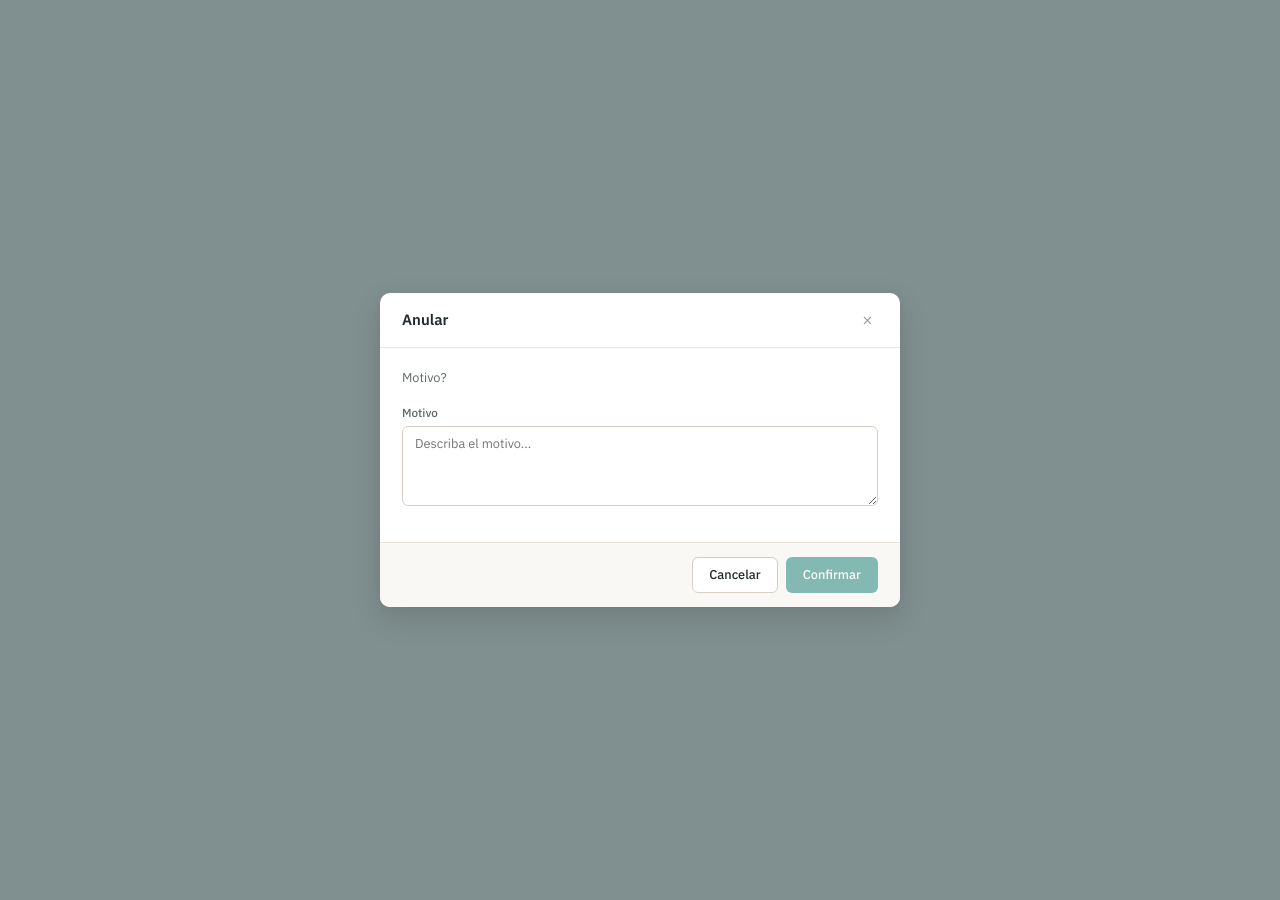
it: ConfirmDialog › el boton se habilita al escribir motivo
Type "Motivo de prueba" into the text box with placeholder "Describa el motivo..." at {"x": 640, "y": 466}, box [402,426,878,506]
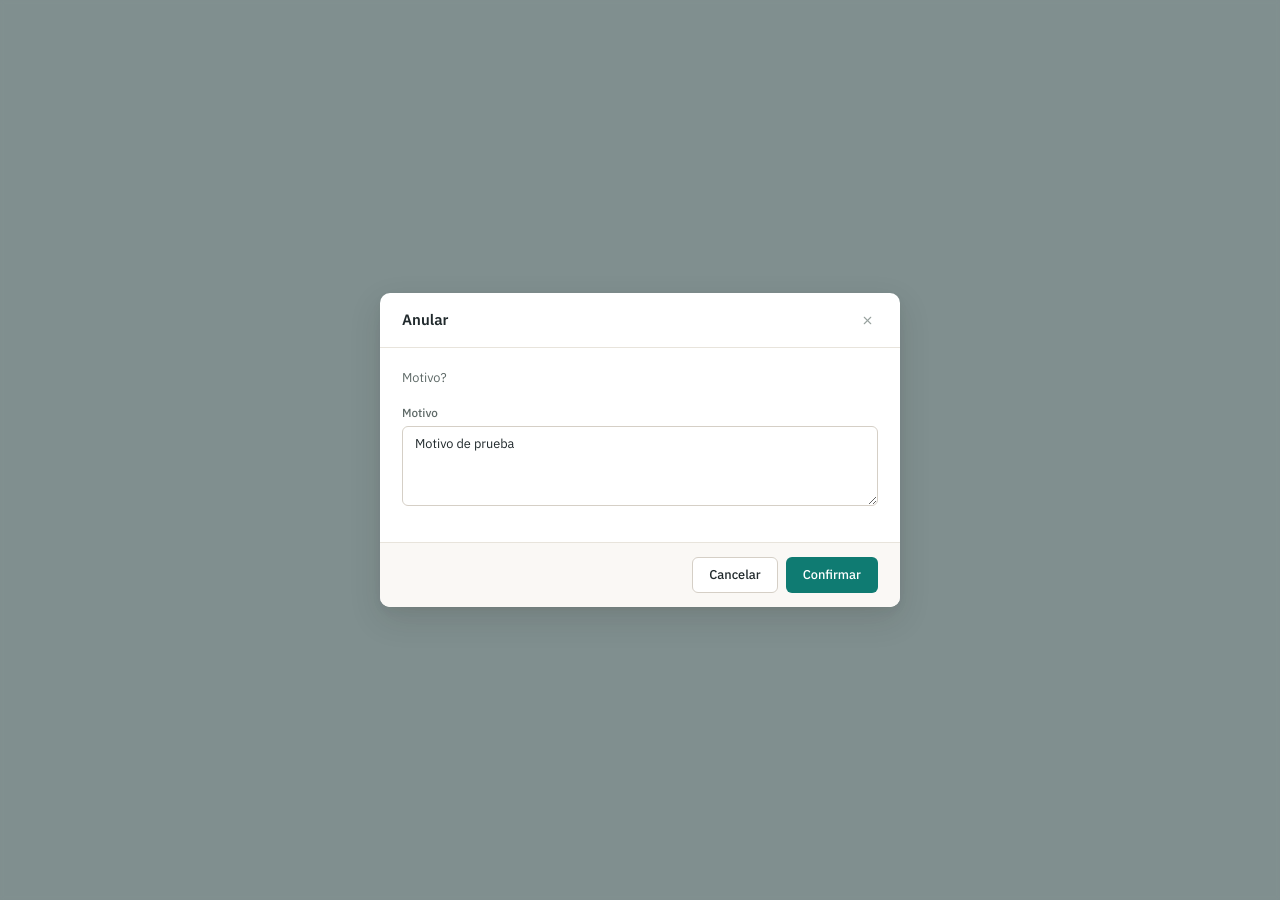
Expected: the button "Confirmar" is enabled, [786,557,878,593]
